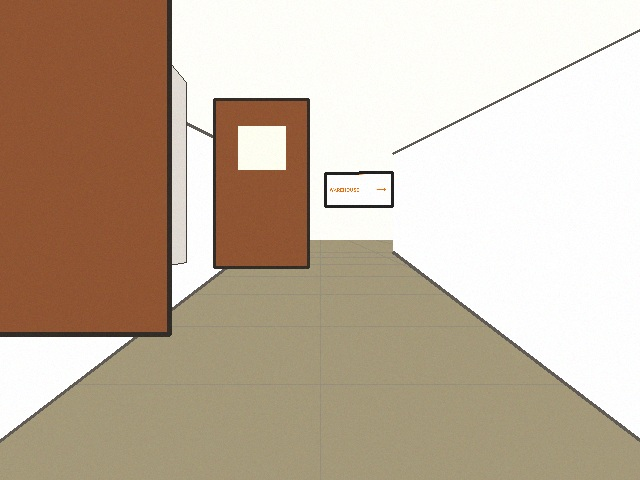directional_sign: (325, 172, 392, 206)
door: (0, 0, 169, 334), (214, 99, 308, 267)
